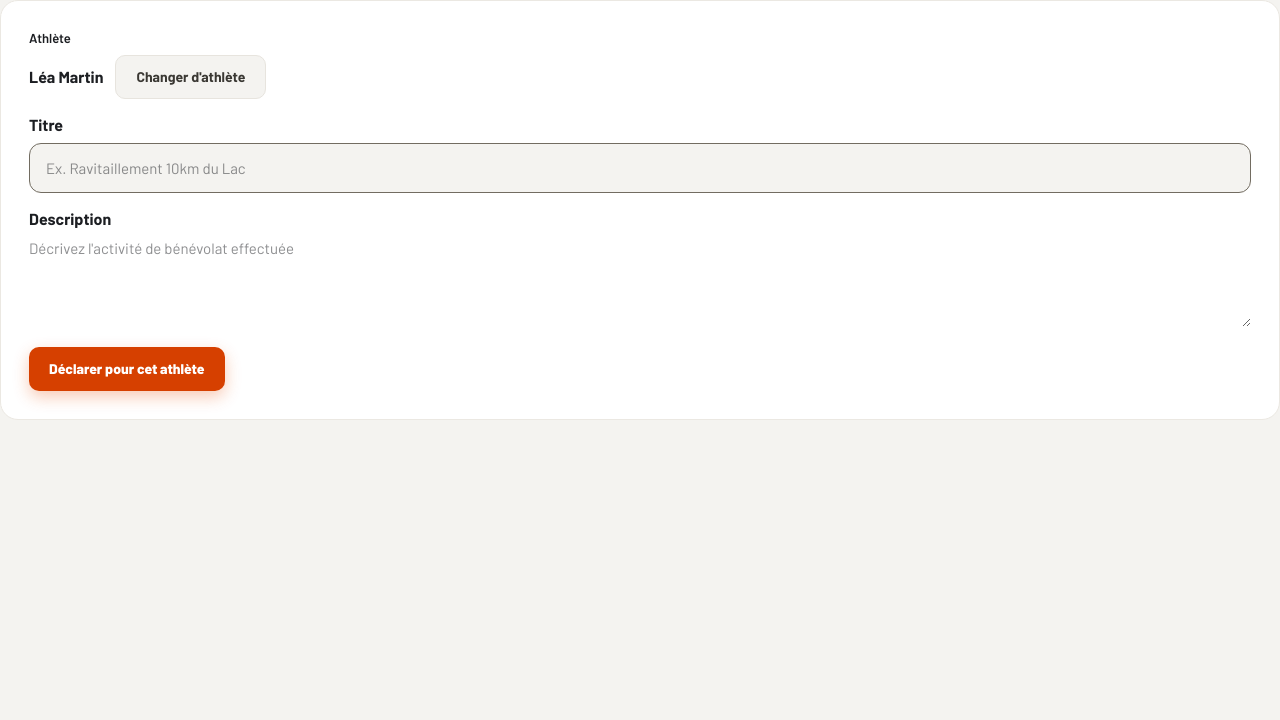
Test case: VolunteerActionForm › membre rattaché à sa fiche (#1672) › revient à sa fiche après une déclaration pour un autre athlète
Click the button "Changer d'athlète": (191,76) [116,54,266,98]
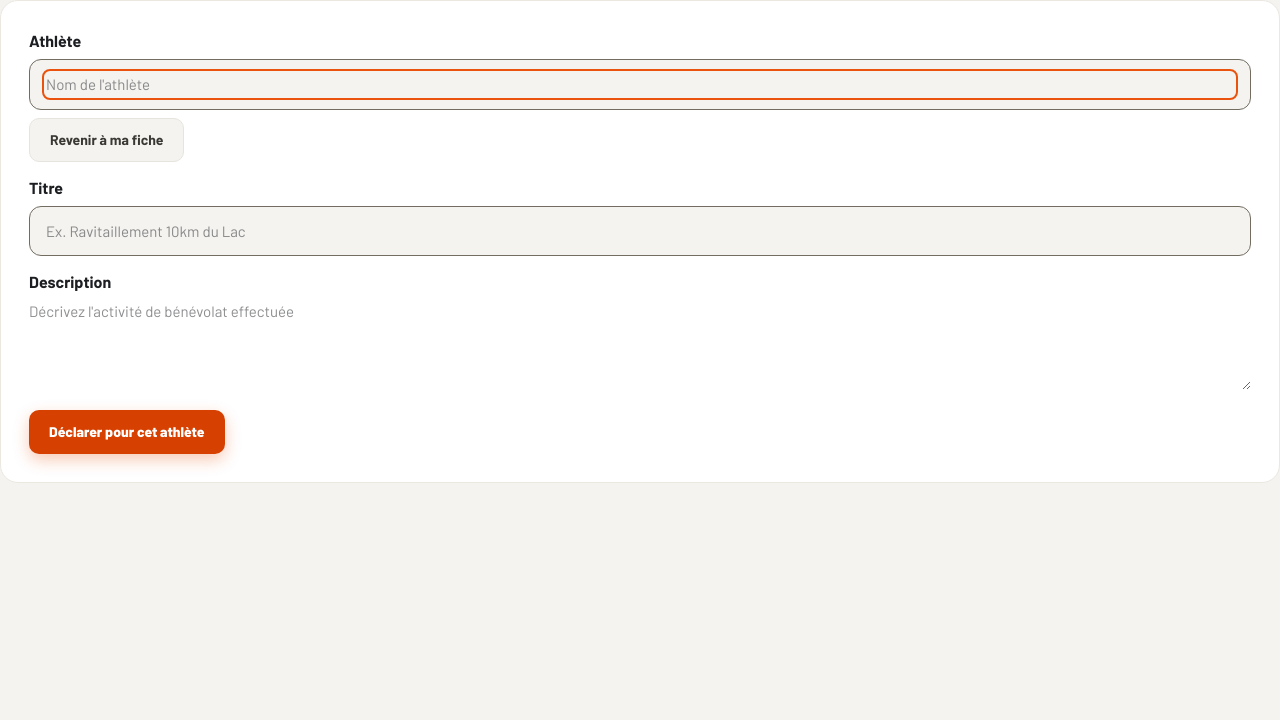
In the field labelled "Athlète": (640,84) [46,73,1234,96], type "Ker"
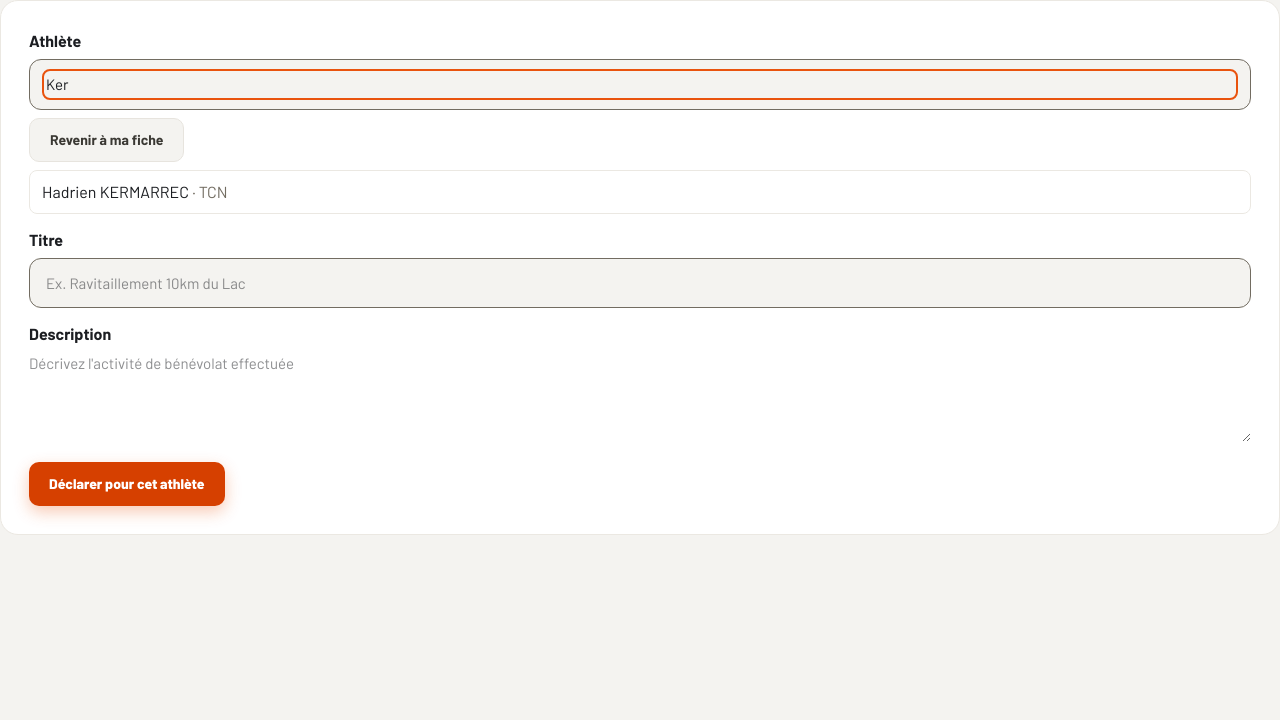
Click the button "Hadrien KERMARREC · TCN": (116,191) [29,170,1251,214]
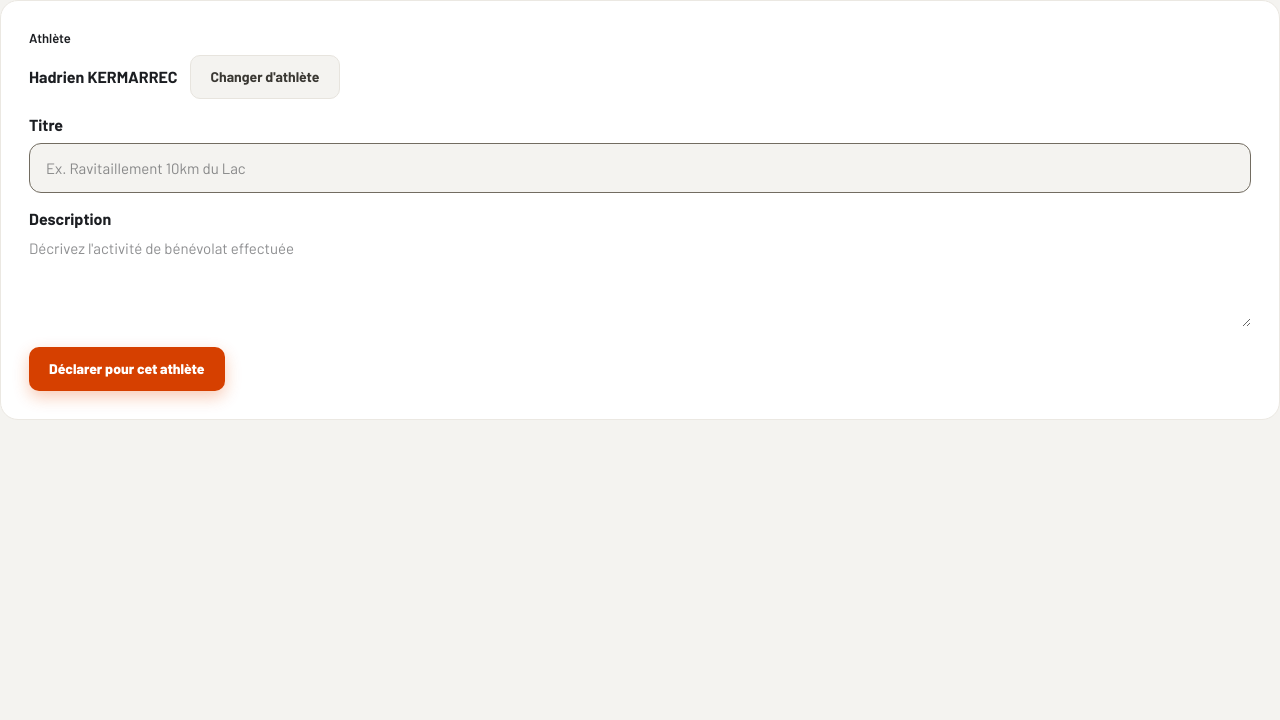
In the field labelled "Titre": (640,168) [46,156,1234,179], type "Chrono"
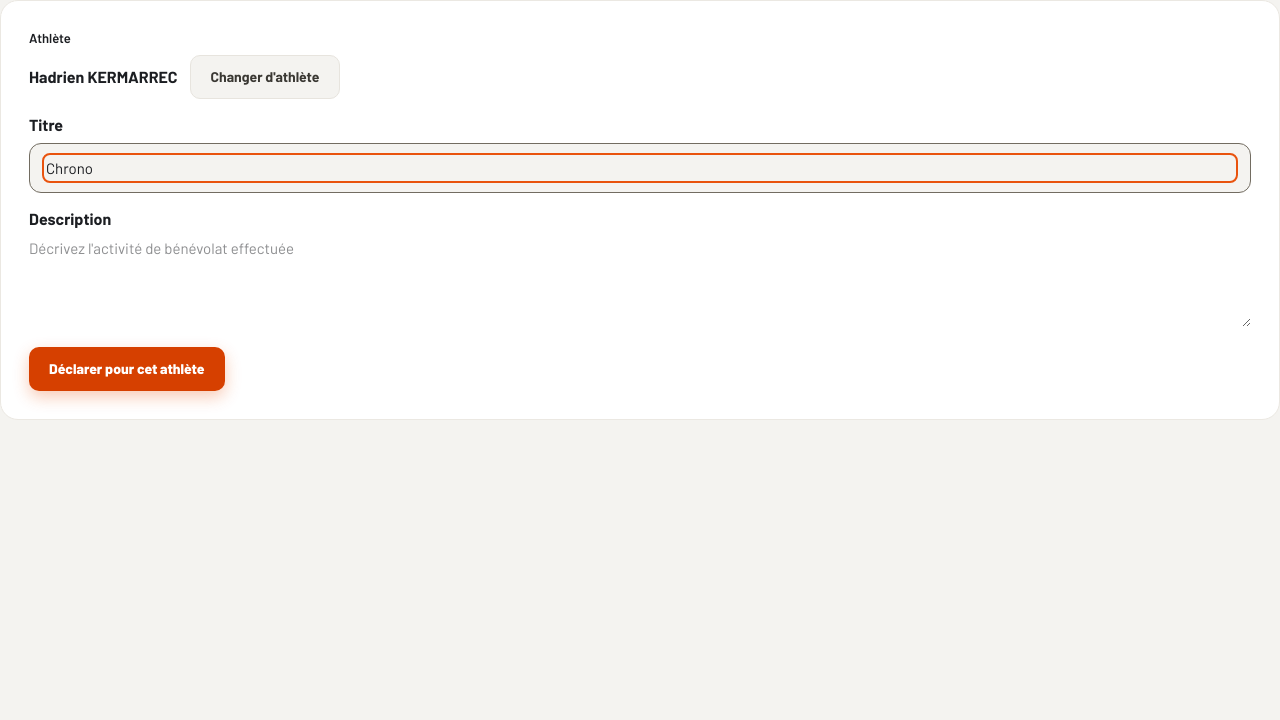
In the text box labelled "Description": (640,282) [29,237,1251,327], type "Arrivée"
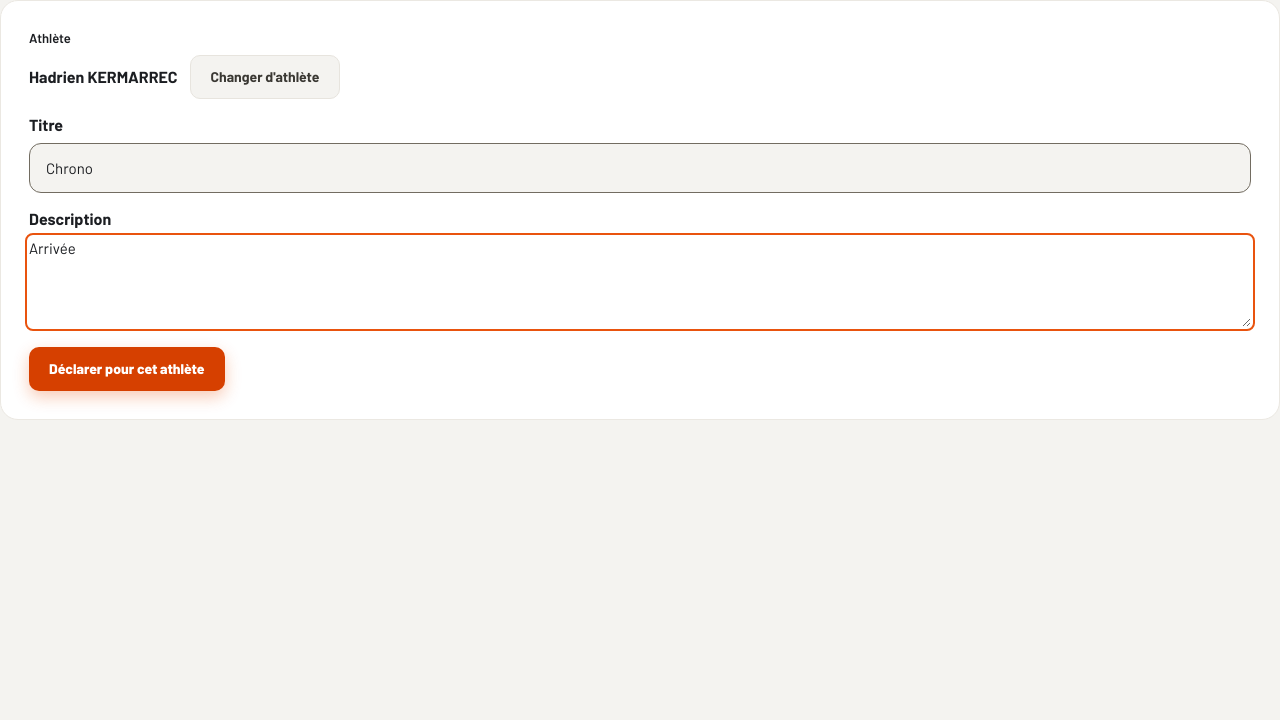
Click the button "Déclarer pour cet athlète": (127,369) [29,347,225,391]
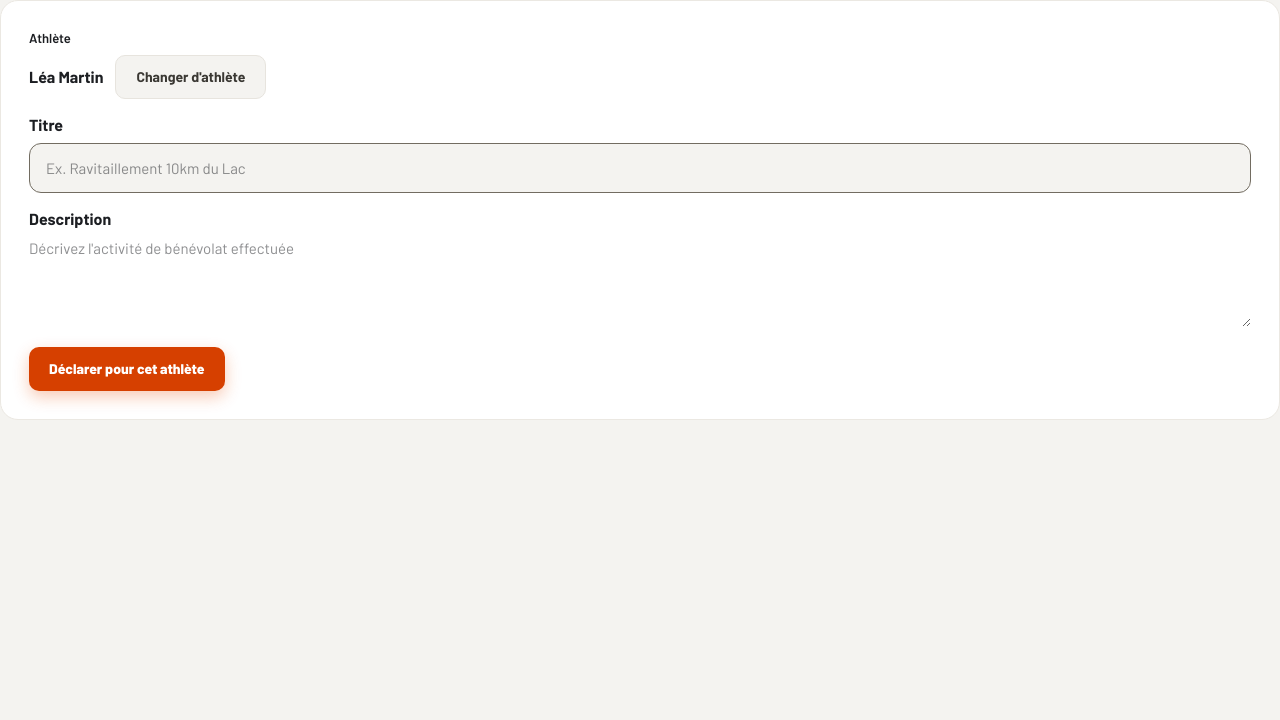
Result: the text "Léa Martin" is shown at [29,64,104,88]
